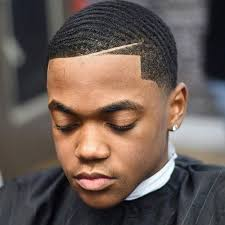person: (44, 1, 189, 211)
